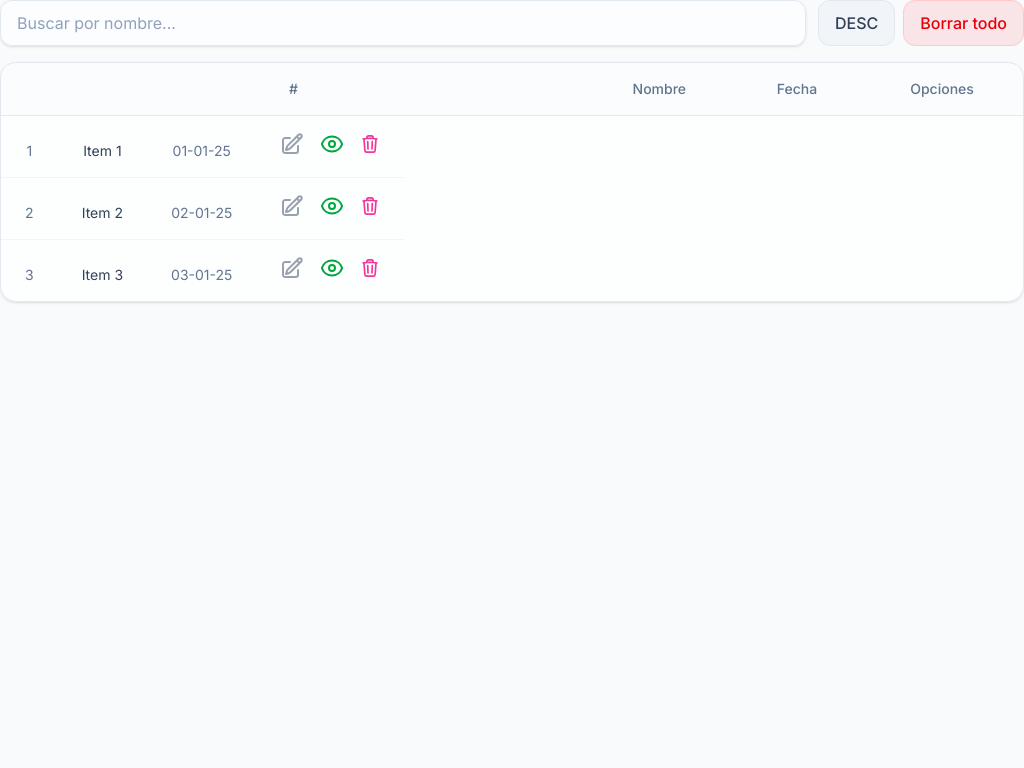
Scenario: BaseTable.vue › handles ViewModal close event
// Click view button on first item
Click the button titled "Ver" in the row of "Item 1" at [332, 144], box 320,132 -> 344,156
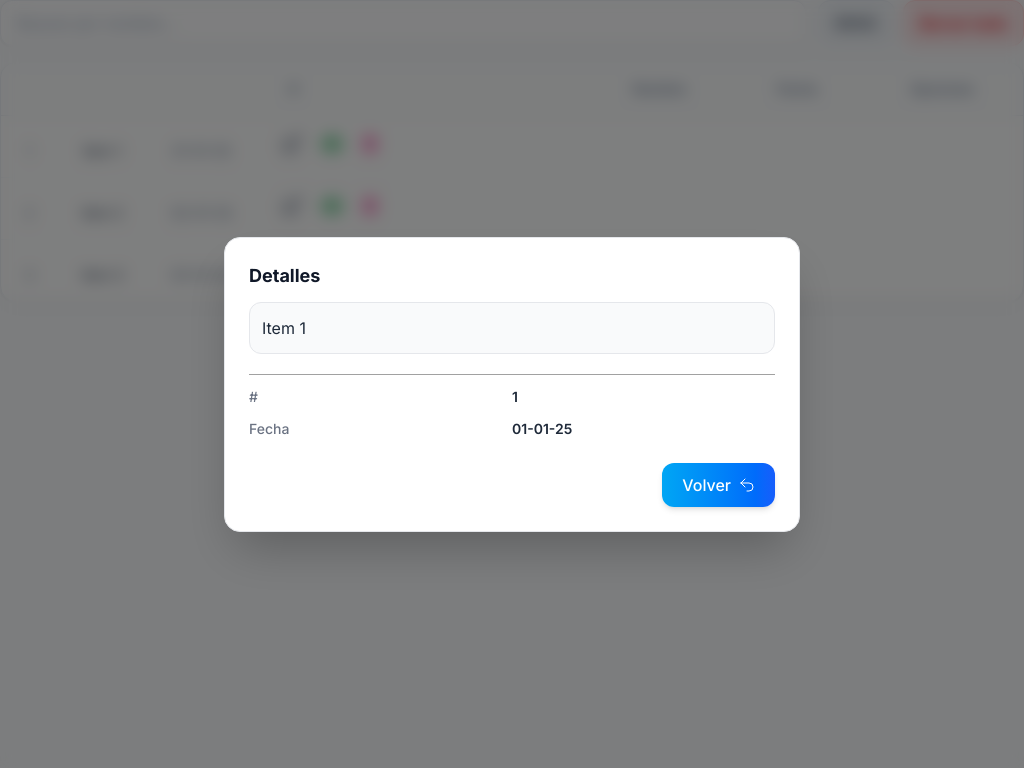
Expected: the text "Detalles" is shown, 249,264 -> 320,286
